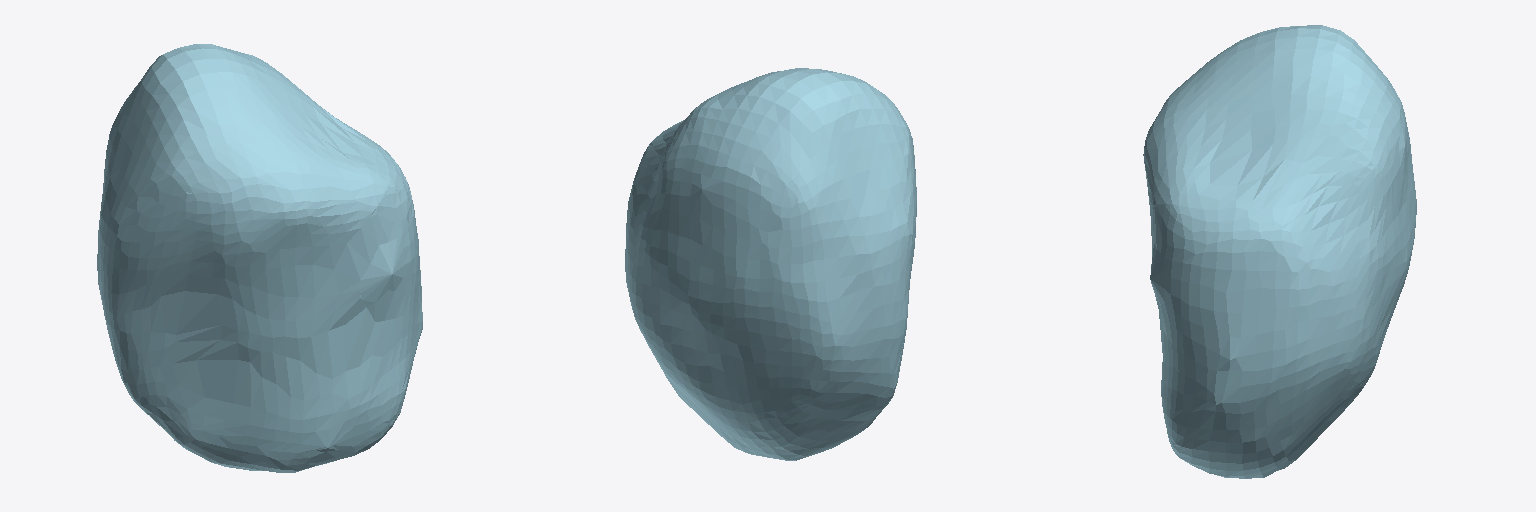
The model's file is SesamoidM.obj.
The picture shows the model from 3 angles: view 1: azimuth 30°, elevation 25°; view 2: azimuth 150°, elevation 25°; view 3: azimuth 270°, elevation 25°; orthographic projection.
Visible parts, largest first — view 1: Object_0SesamoidM; view 2: Object_0SesamoidM; view 3: Object_0SesamoidM.
Part boxes in pixels (bbox=[...]): Object_0SesamoidM: bbox=[97, 44, 422, 472]; Object_0SesamoidM: bbox=[625, 68, 916, 460]; Object_0SesamoidM: bbox=[1143, 25, 1416, 478].
Size of the model in its own units: 10.1 by 13.9 by 8.51.